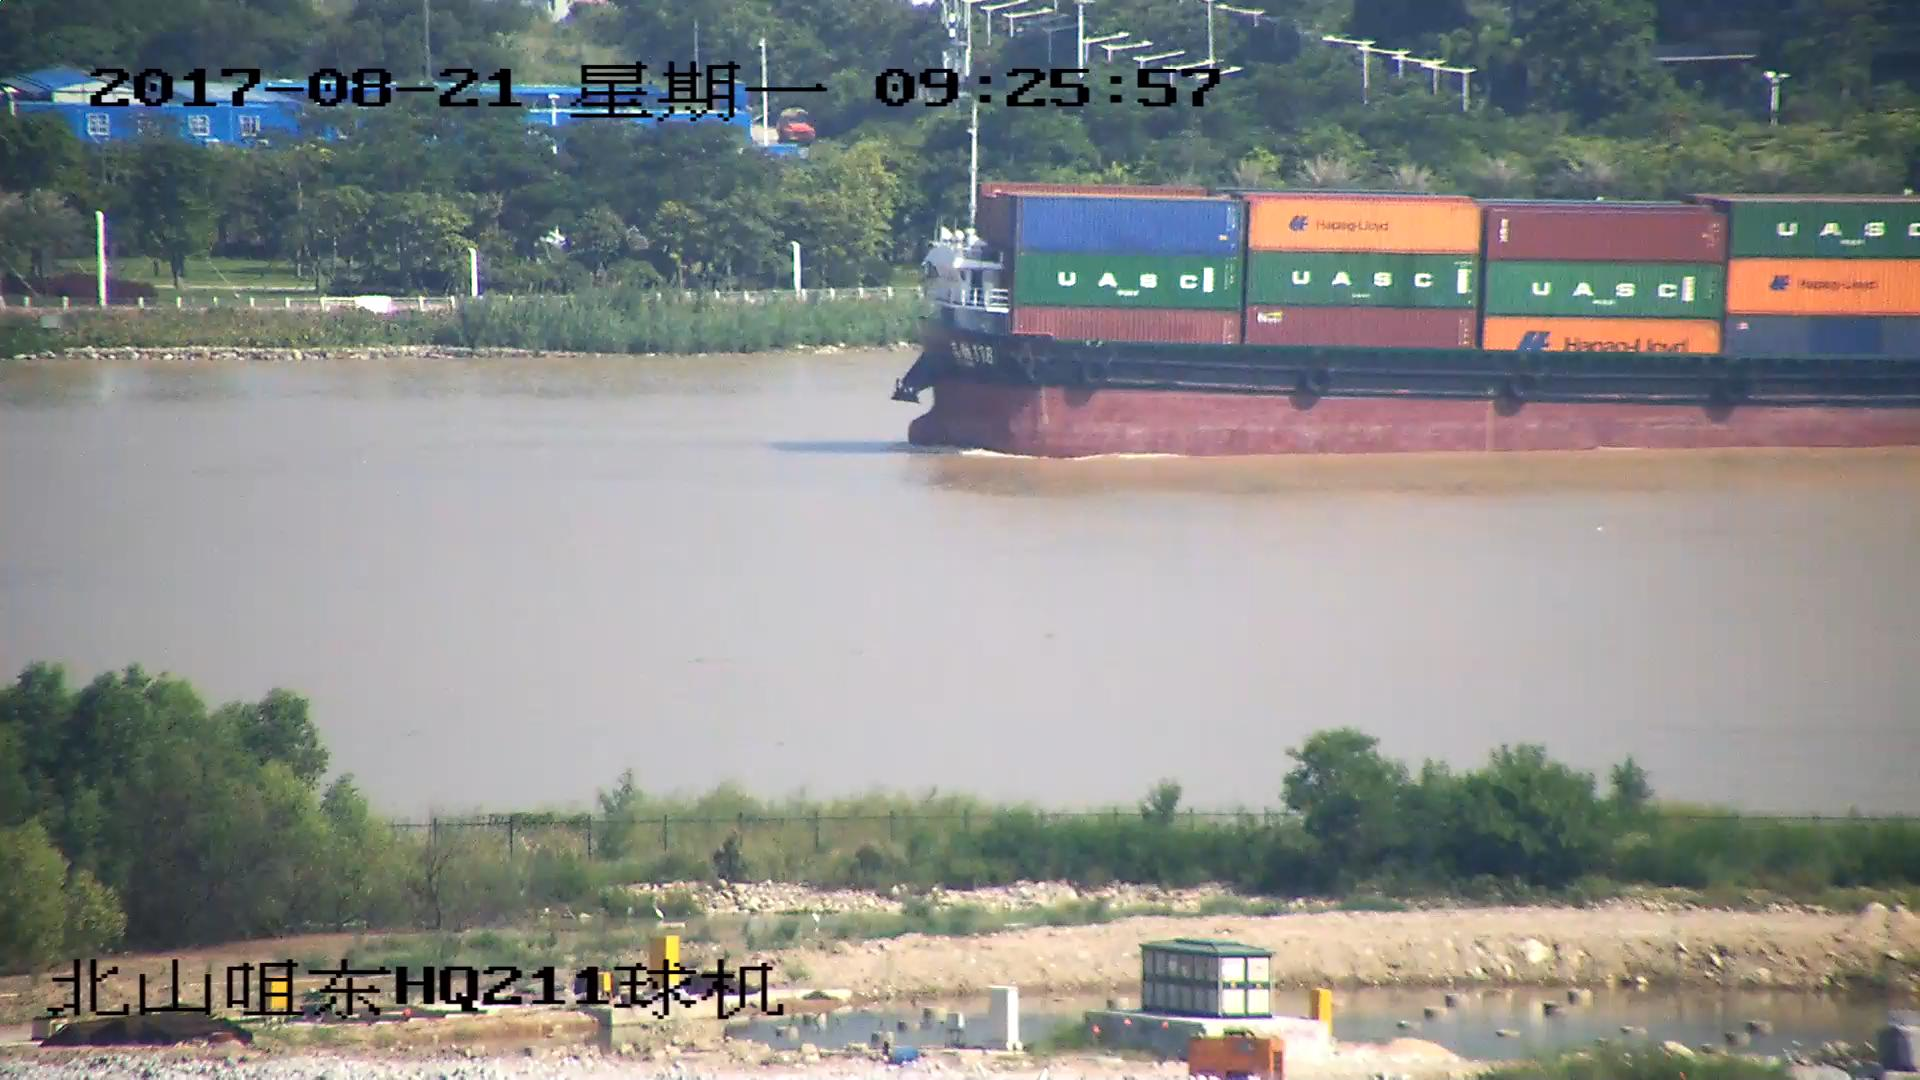container ship: (887, 112, 1920, 457)
